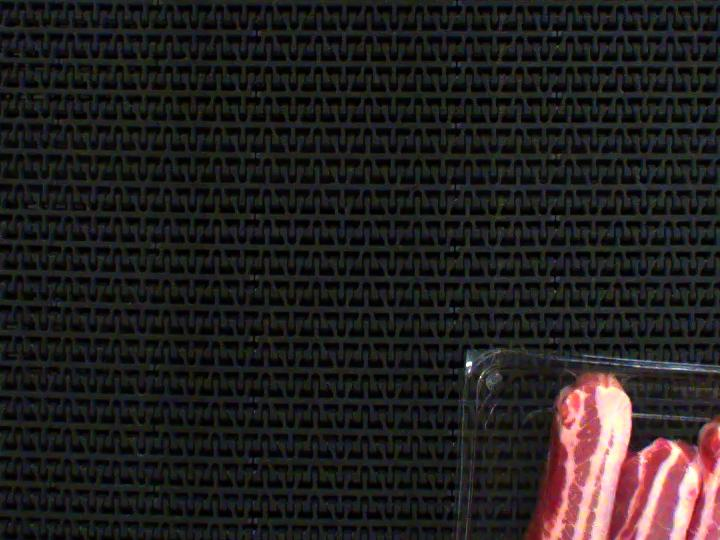packaging-error: (563, 360, 641, 382)
